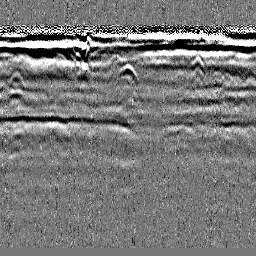cavity: (115, 62, 139, 85)
